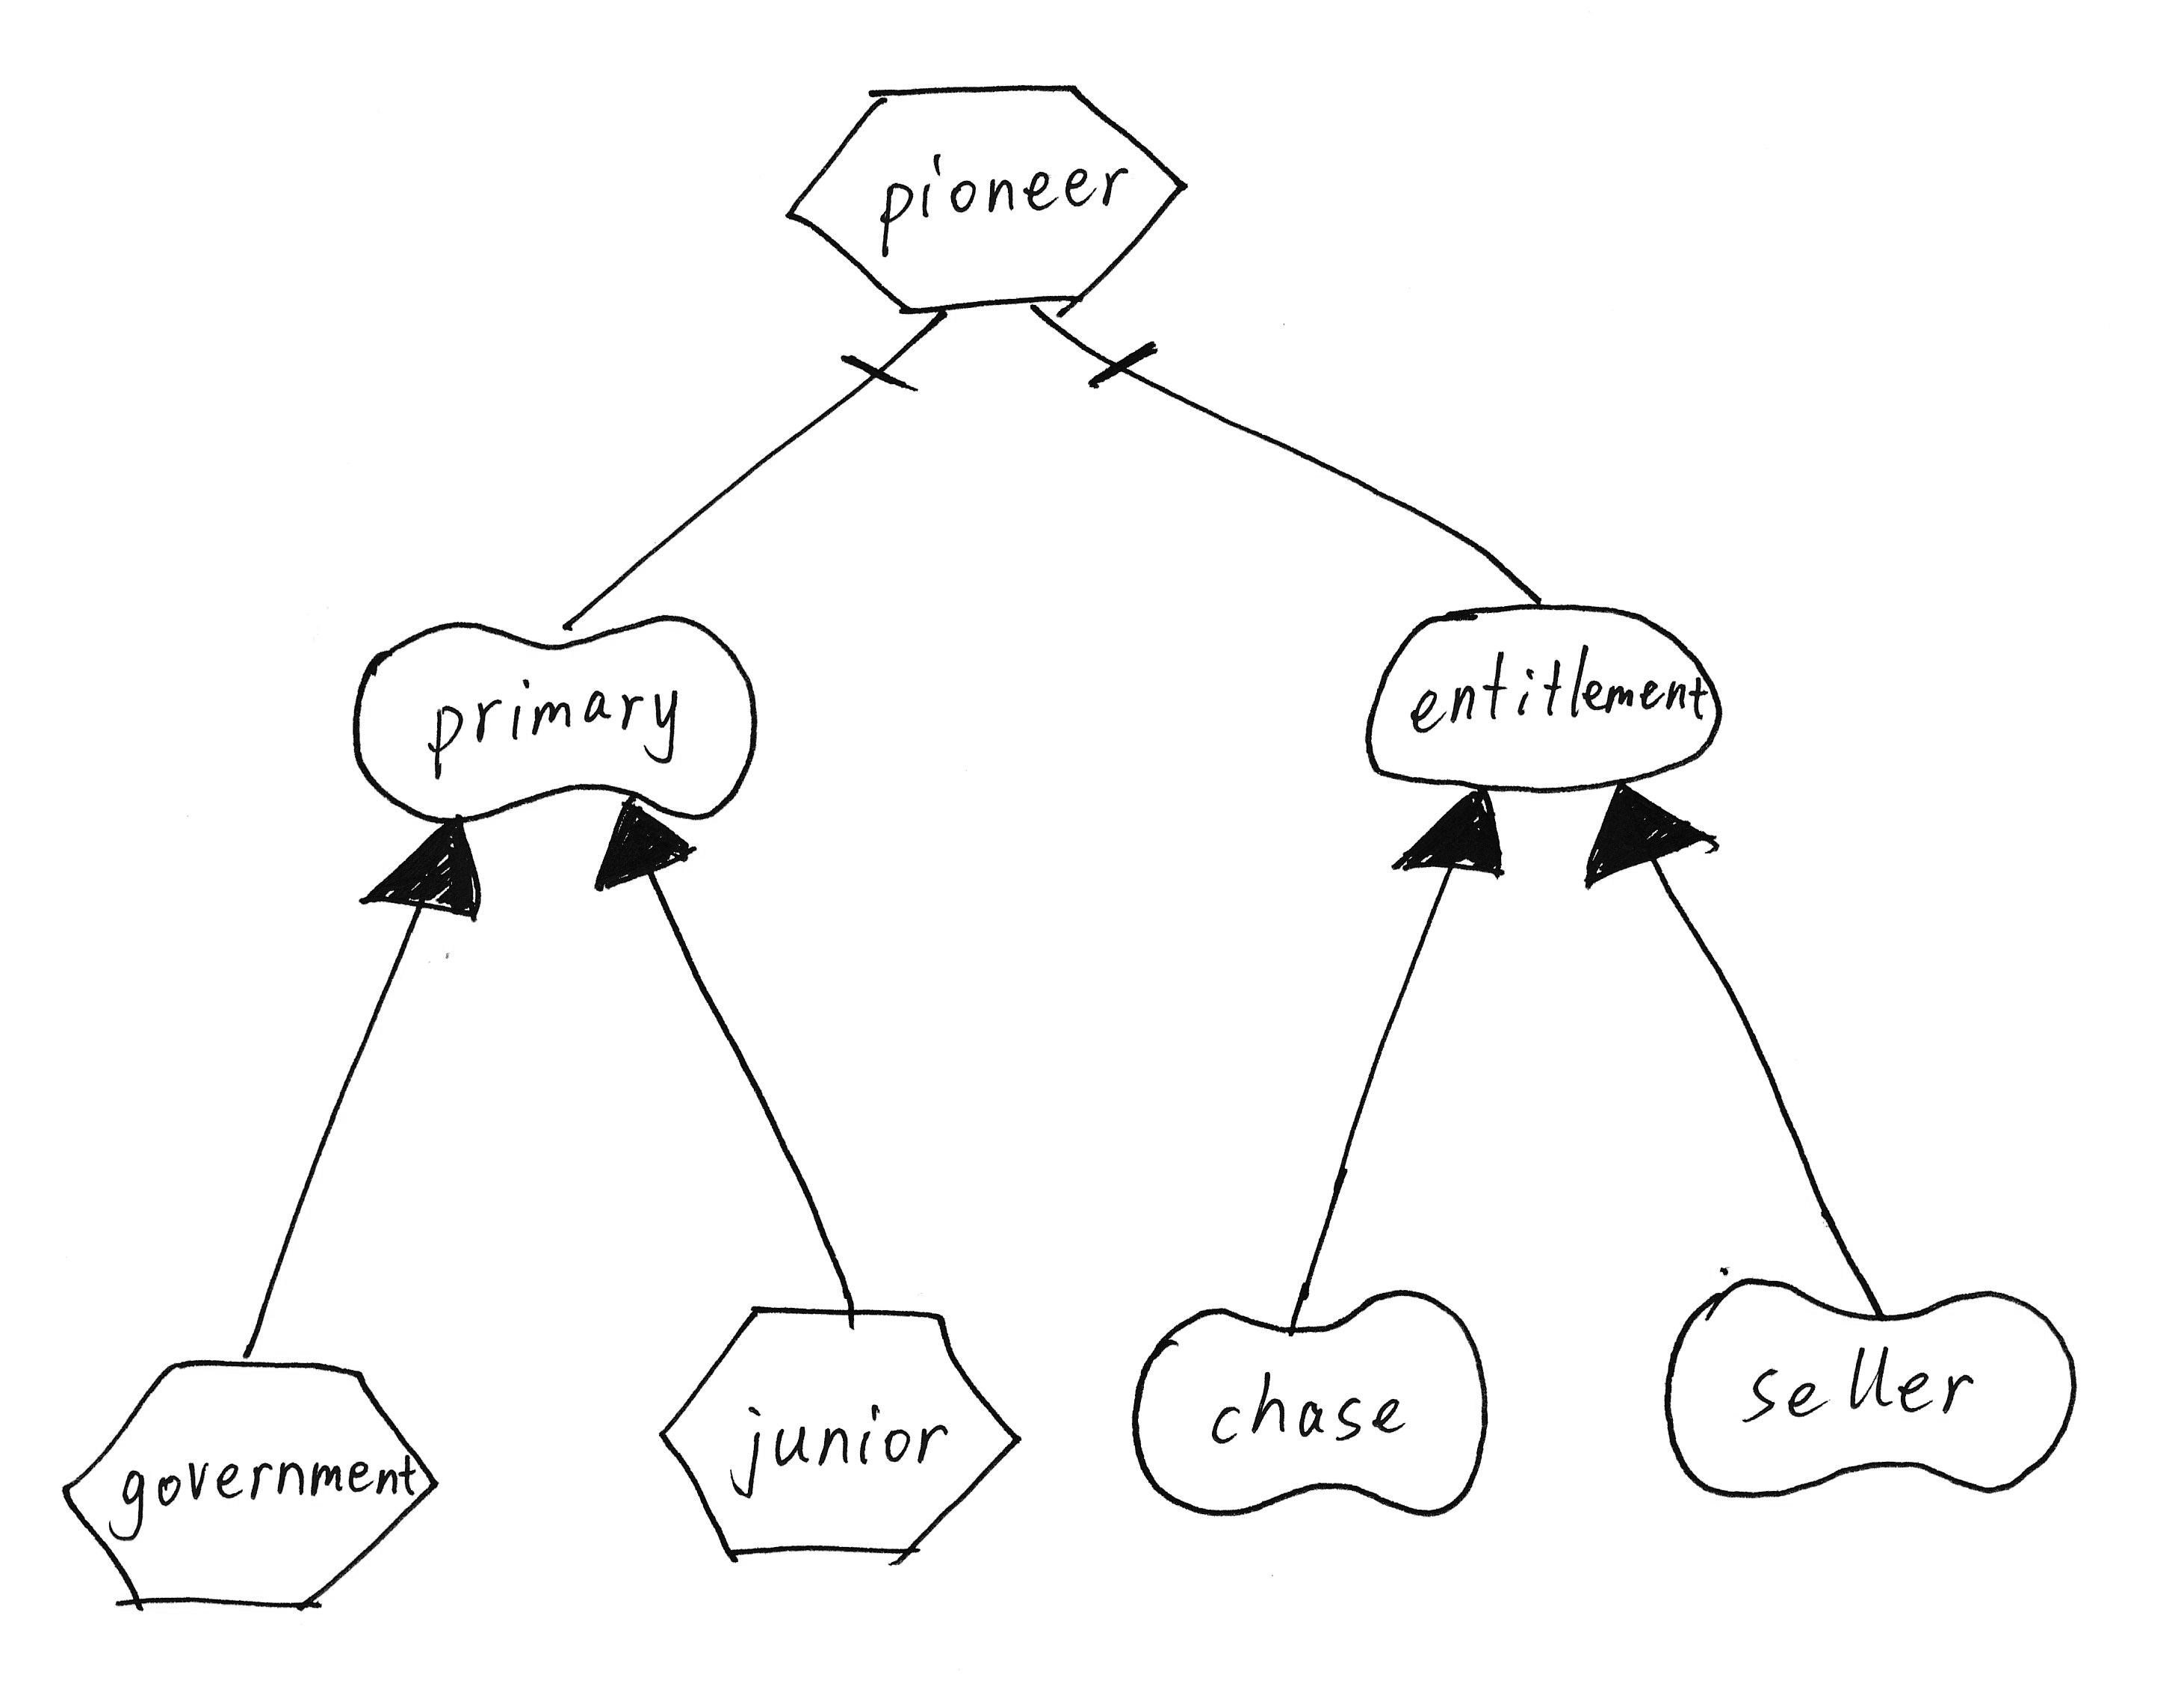and: (1014, 289, 1175, 399), (837, 292, 957, 406)
goal: (1354, 592, 1741, 806)
or: (1572, 769, 1735, 900), (347, 803, 498, 936), (1384, 775, 1514, 890), (587, 780, 706, 902)
quality: (1643, 1266, 2094, 1507), (342, 597, 775, 840), (1117, 1278, 1509, 1530)
task: (771, 64, 1202, 324), (53, 1344, 450, 1625), (645, 1290, 1033, 1576)
